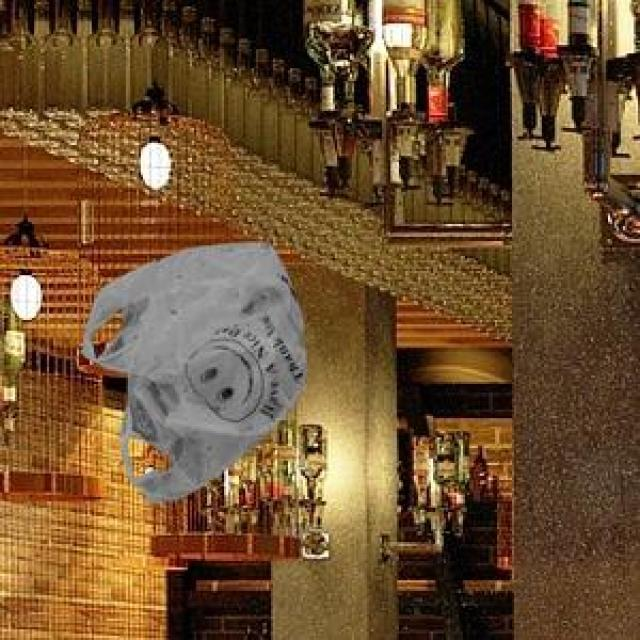waste: (85, 239, 309, 508)
